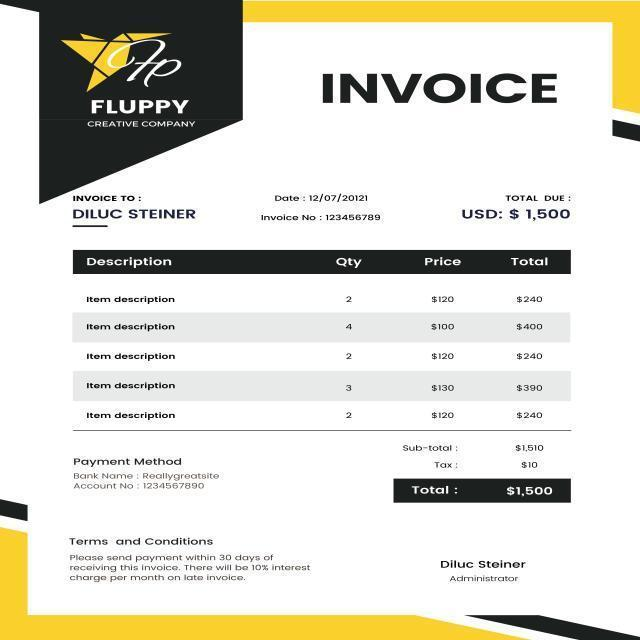ROI: (67, 241, 605, 425), (307, 54, 579, 133), (54, 17, 216, 134), (381, 437, 588, 518), (59, 531, 322, 593), (67, 447, 229, 508), (251, 177, 398, 236), (452, 177, 609, 229), (71, 182, 215, 233), (424, 541, 555, 596)
